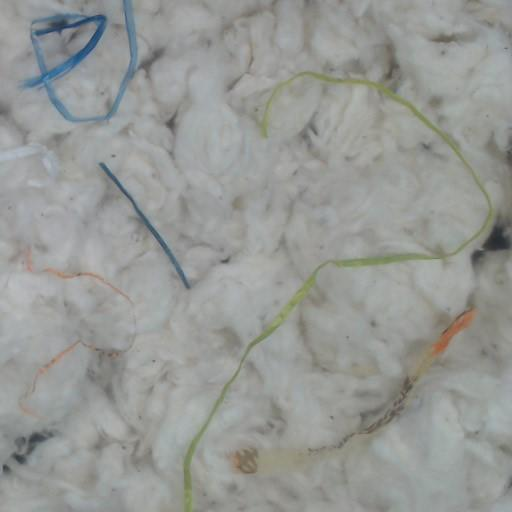thread: (183, 71, 494, 511), (232, 308, 475, 473), (20, 268, 137, 414), (24, 0, 137, 121), (100, 162, 188, 288), (0, 143, 58, 187), (24, 254, 33, 272)
